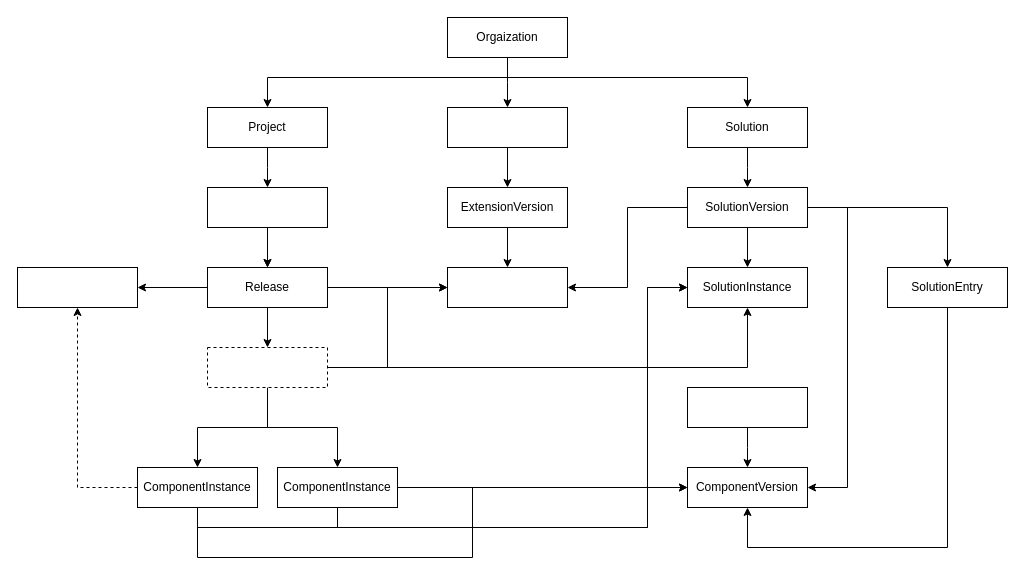
This 1025x583 diagram has some shape labels left out. Each missing label, with the centre of its shape:
Application: [267,207]
Component: [747,407]
Entry: [267,367]
Extension: [507,127]
ExtensionInstance: [507,287]
State: [77,287]
